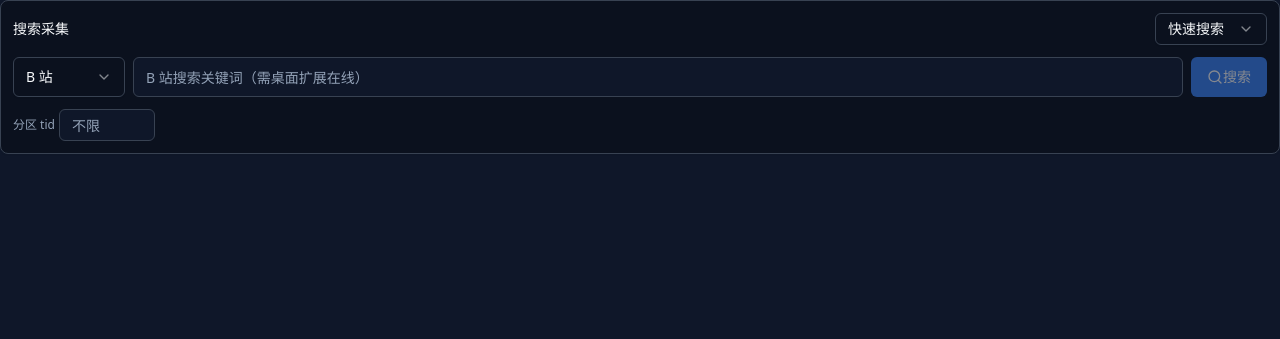
Test case: 分区 tid：填 21 后搜索 → body 带 tid=21（数字）
In the number field named "B 站分区 tid（可选）": (107, 125) [59, 109, 155, 141], type "21"
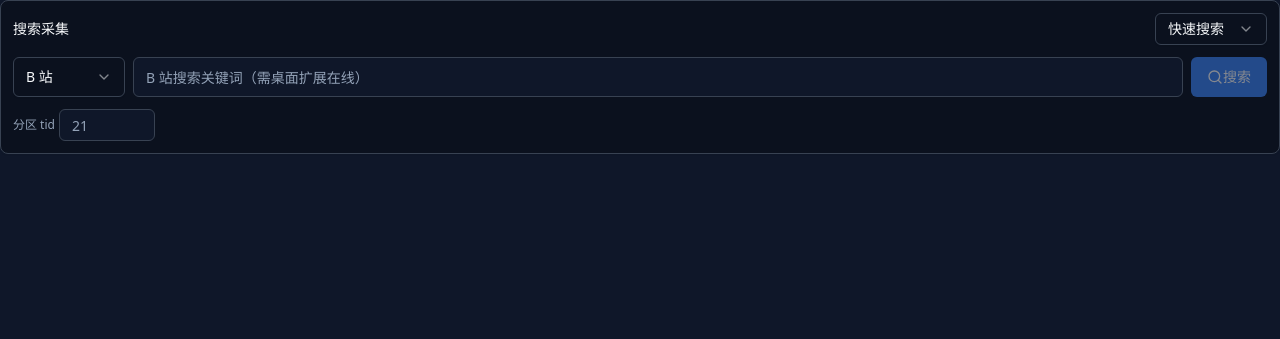
In the field with placeholder "B 站搜索关键词（需桌面扩展在线）": (658, 77) [133, 57, 1183, 97], type "加息"
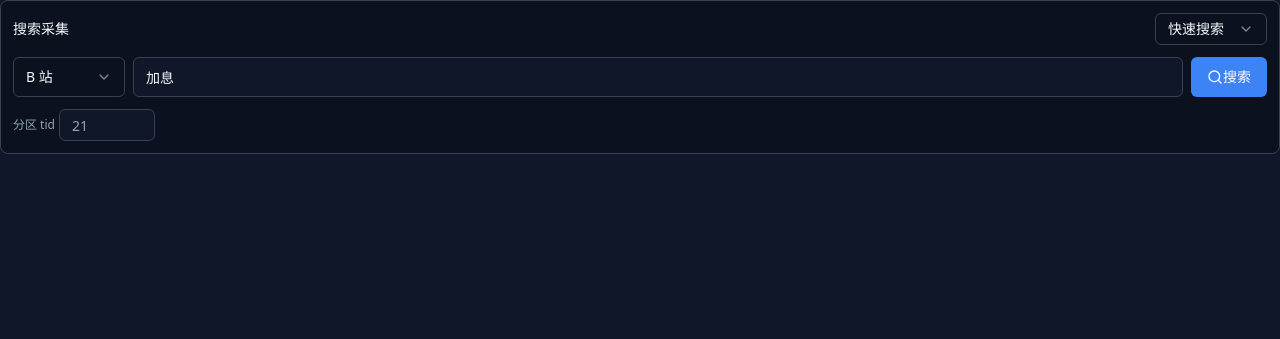
Click the button "搜索": (1229, 77) [1191, 57, 1267, 97]
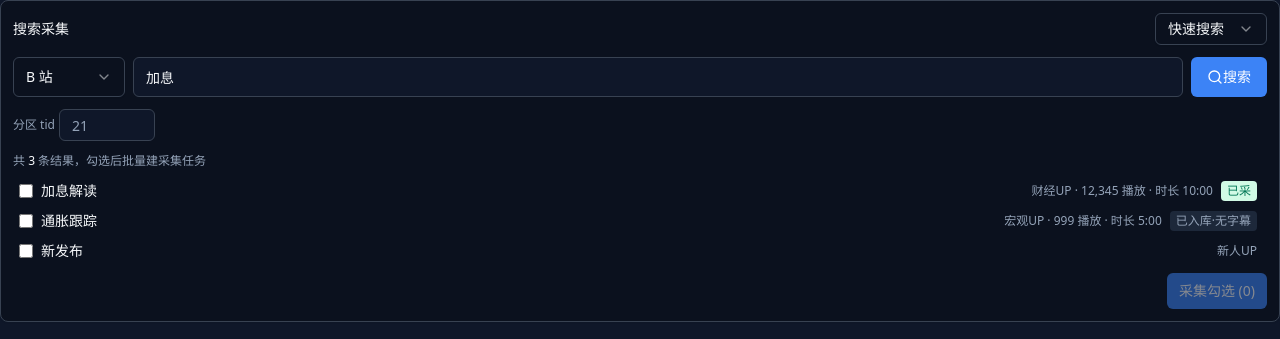
Now the text "加息解读" is shown, box [41, 181, 97, 200]
